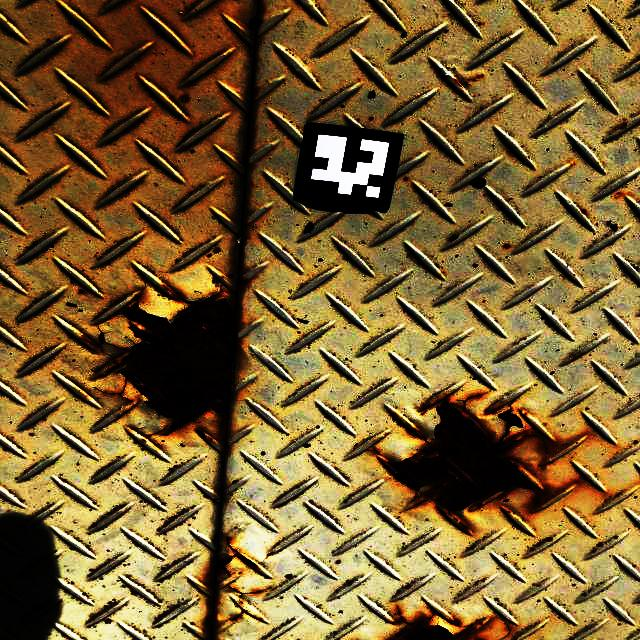Corrosion: (118, 264, 245, 432), (372, 401, 553, 512), (393, 612, 490, 640), (208, 540, 259, 592), (94, 360, 128, 380)
